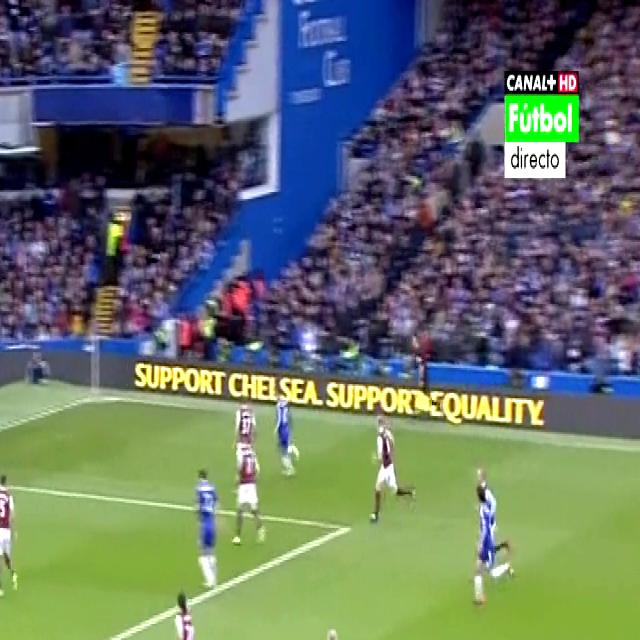referee: (409, 330, 447, 429), (323, 617, 382, 640)
soccer-player: (368, 409, 418, 527), (474, 484, 516, 614), (188, 460, 224, 597), (232, 437, 268, 559), (0, 464, 25, 613), (271, 375, 301, 488), (167, 578, 215, 640), (234, 389, 256, 447)
